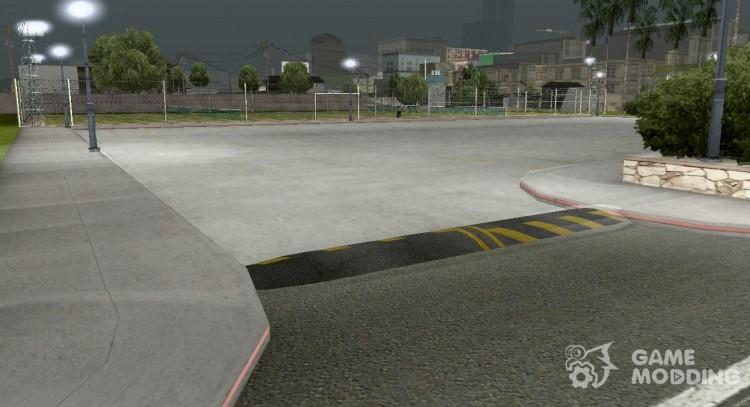Bump: (237, 205, 634, 292)
